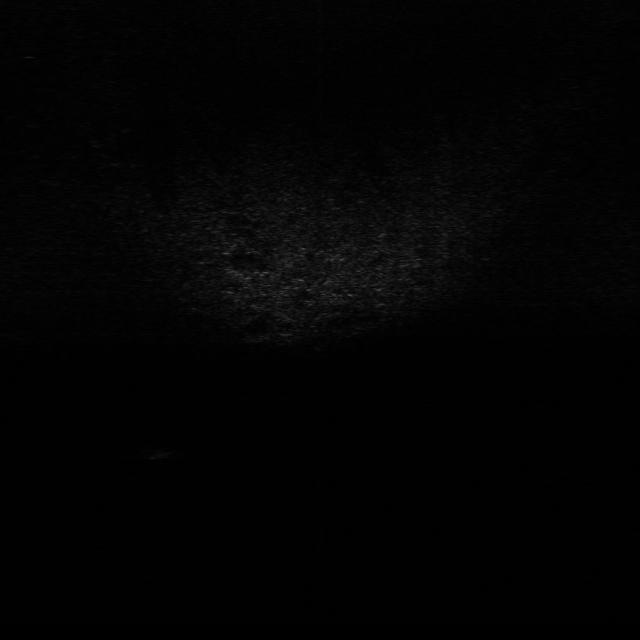cube: (140, 435, 192, 460)
